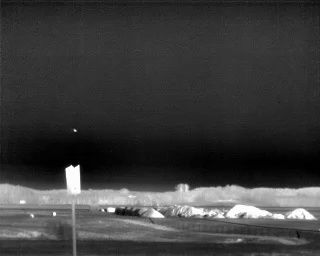BIRD: (71, 126, 79, 134)
